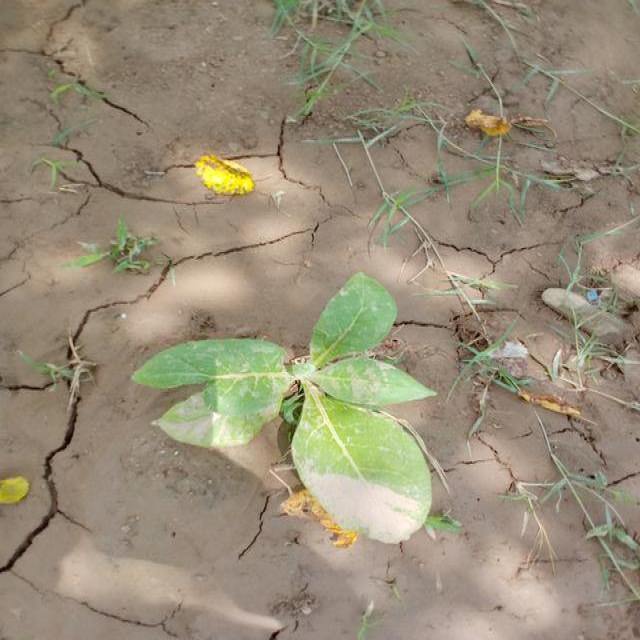crop: (132, 271, 431, 543)
